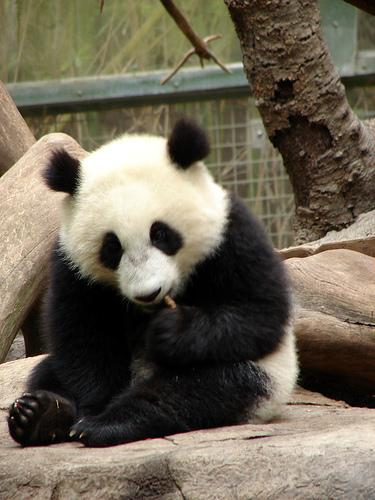panda: (8, 119, 298, 445)
